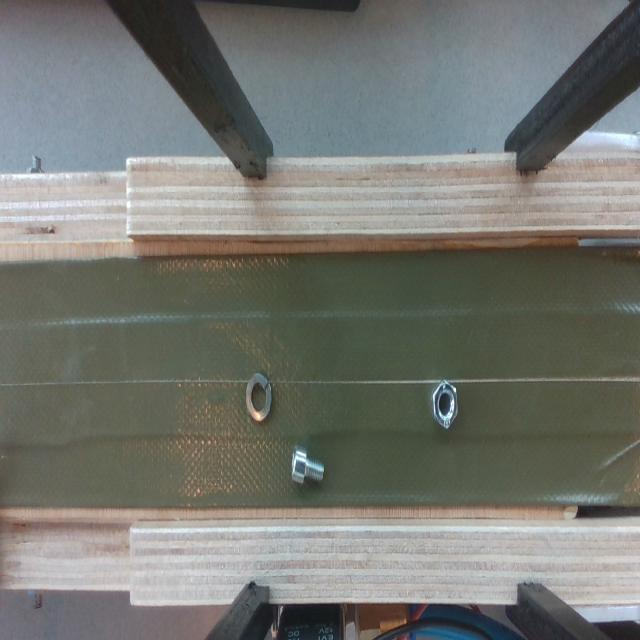Bolt: (291, 445, 324, 483)
Nut: (432, 381, 458, 427)
washer: (246, 374, 271, 421)
